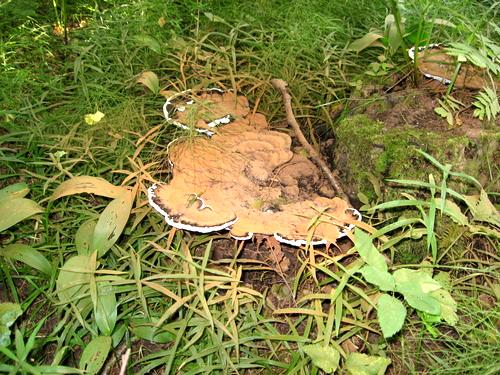Ganoderma - Fruit Body: (145, 84, 363, 247), (407, 44, 498, 88)
